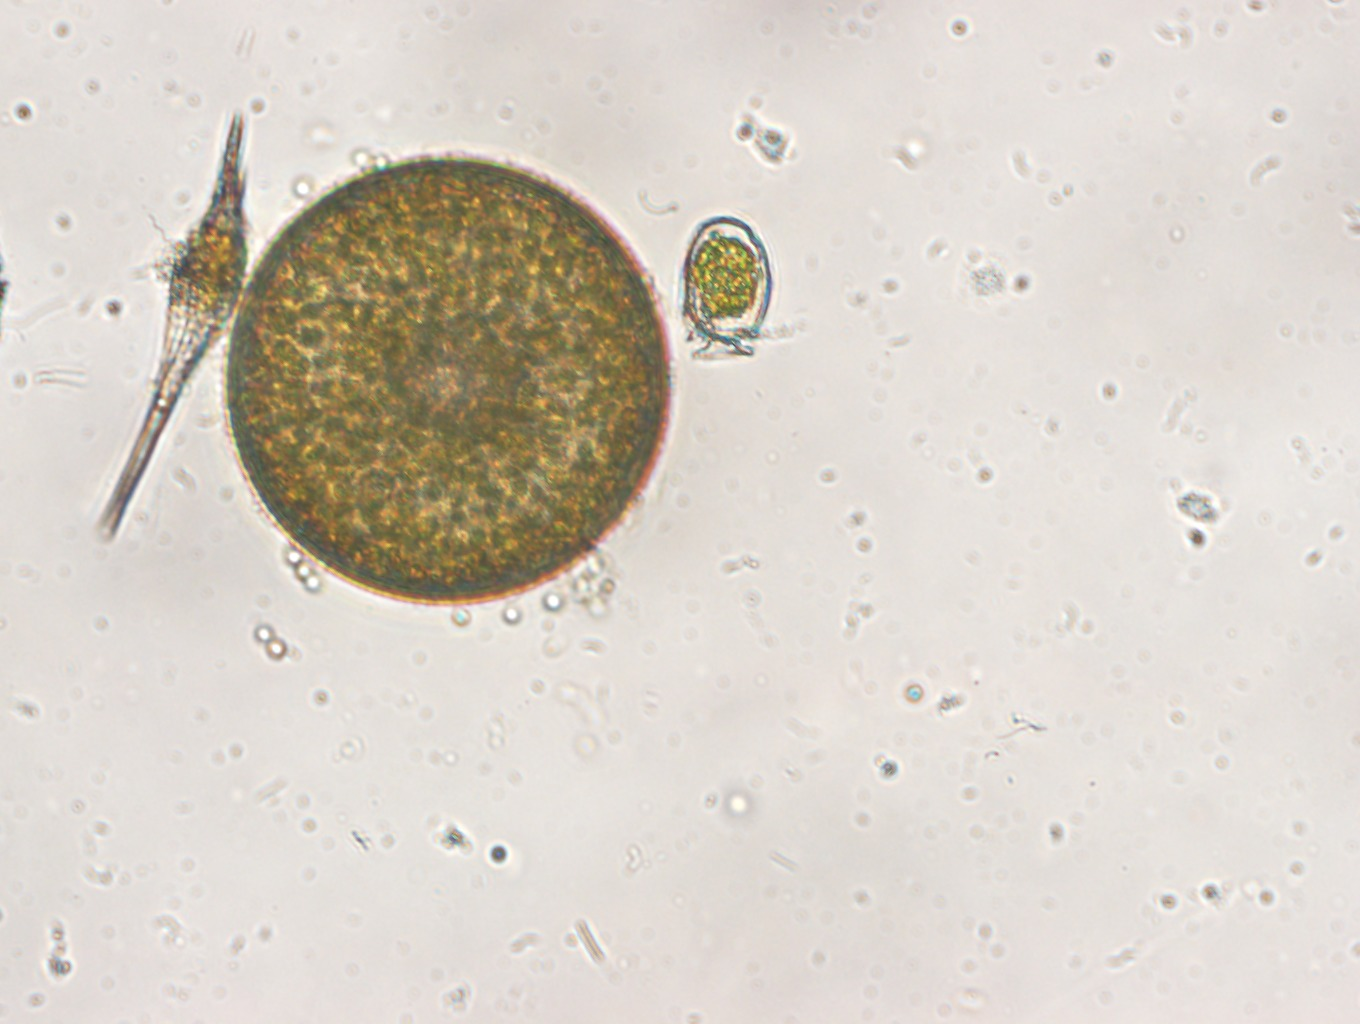ceratium furca: (94, 100, 252, 553)
coscinodiscus: (219, 147, 679, 616)
